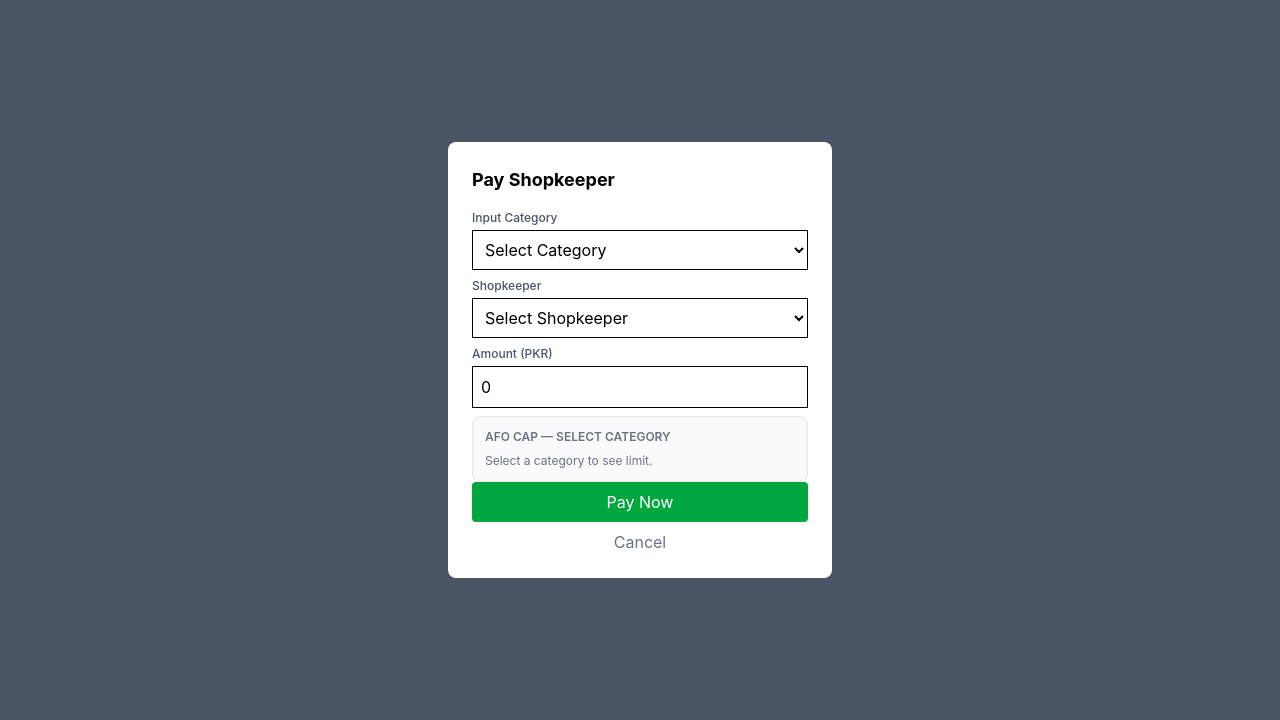
Test case: PaymentModal.vue › FIXED: submit is disabled when amount exceeds the AFO cap remaining, and the warning is visible
Select "seed" in the 1st dropdown: {"x": 640, "y": 250} [472,230,808,270]
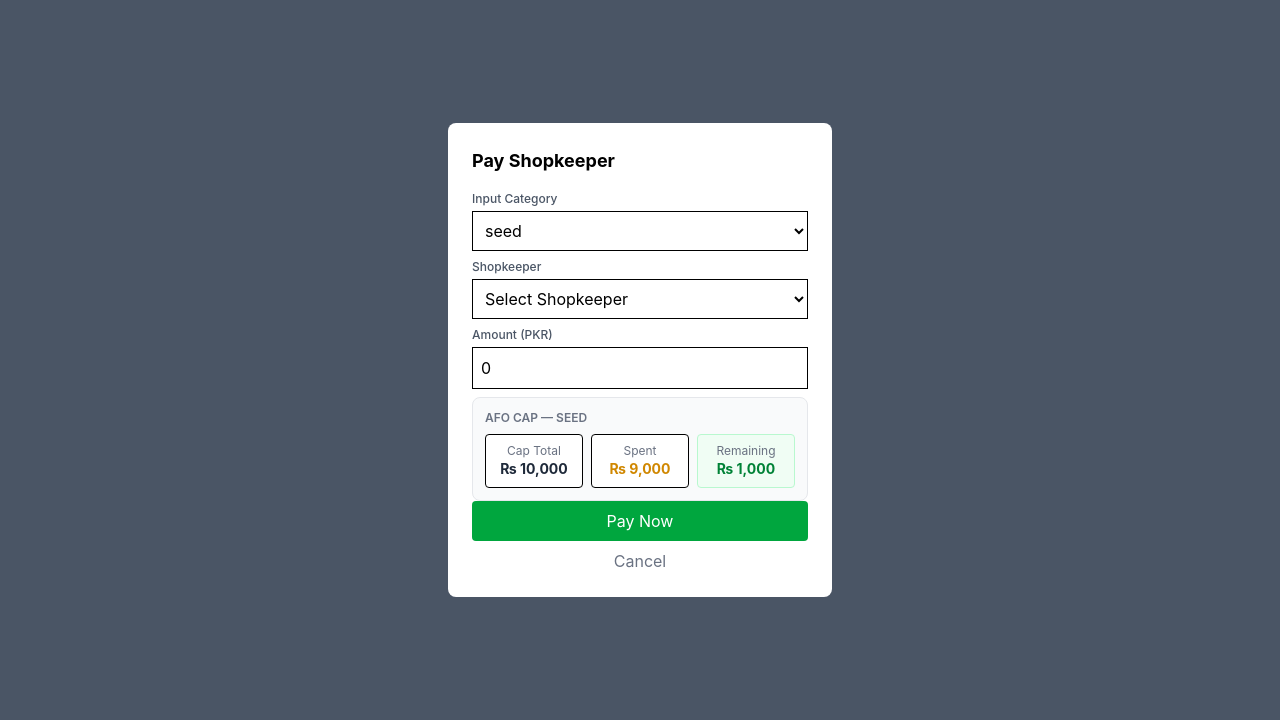
Select "Ali Store (03001112222)" in the 2nd dropdown: {"x": 640, "y": 299} [472,279,808,319]
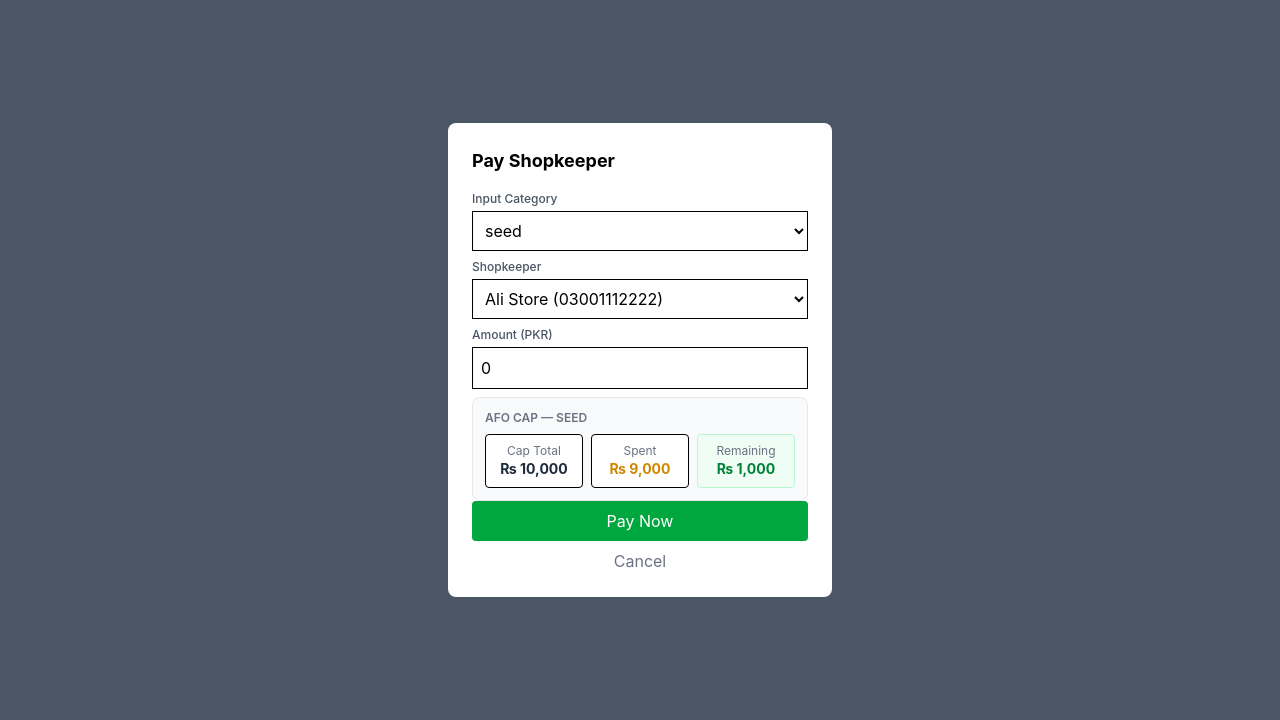
Replace the text in the number field with "50000": {"x": 640, "y": 368} [472,347,808,389]
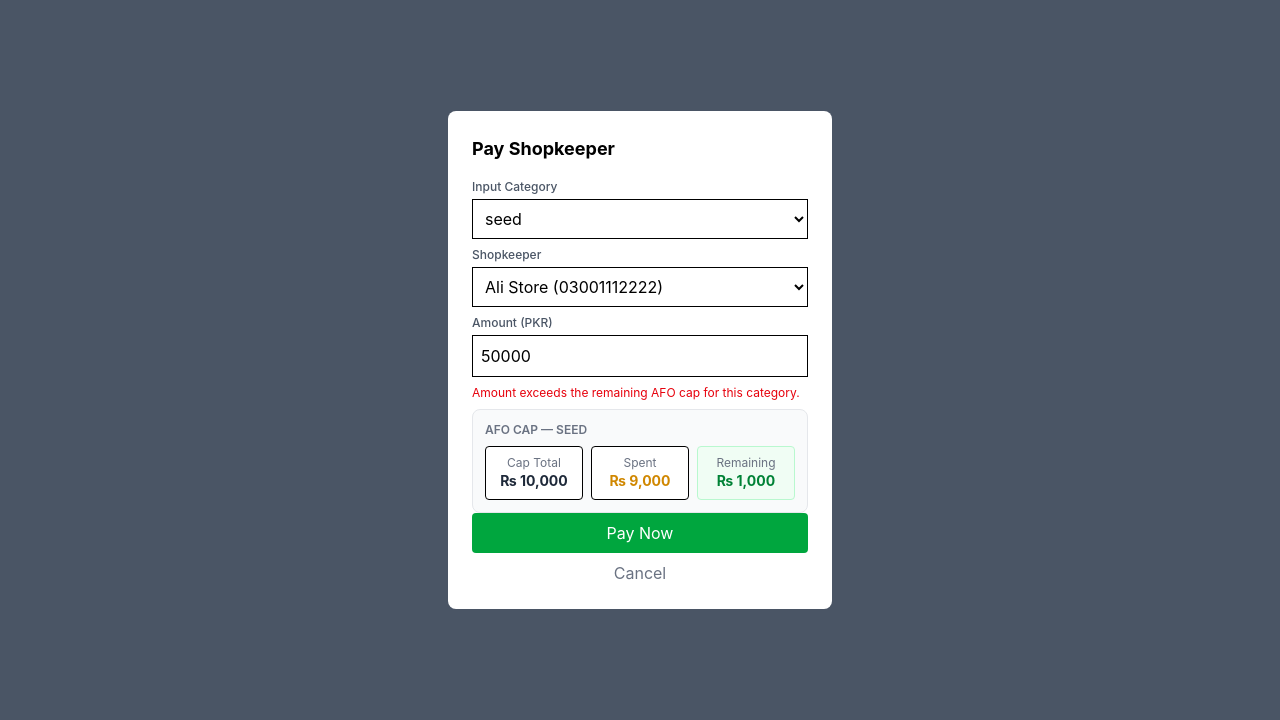
Expected: the button "Pay Now" is disabled, [472,513,808,553]
Expected: the text "exceeds the remaining AFO cap" is shown, [472,385,800,400]
